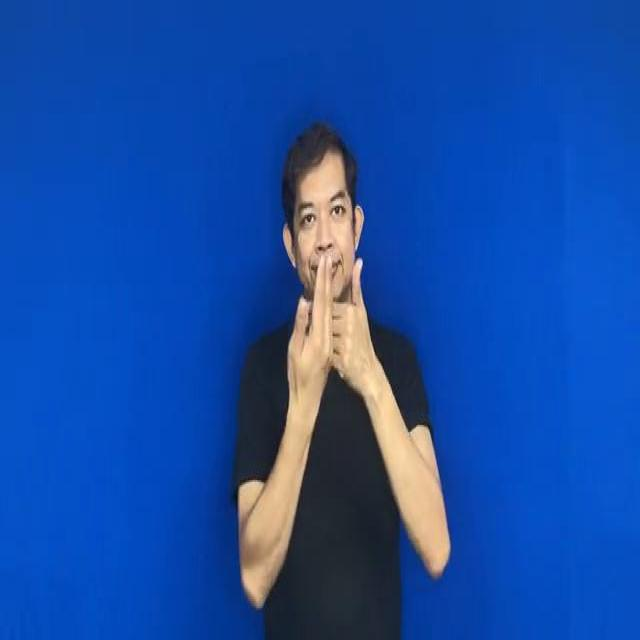bread: (281, 243, 387, 410)
